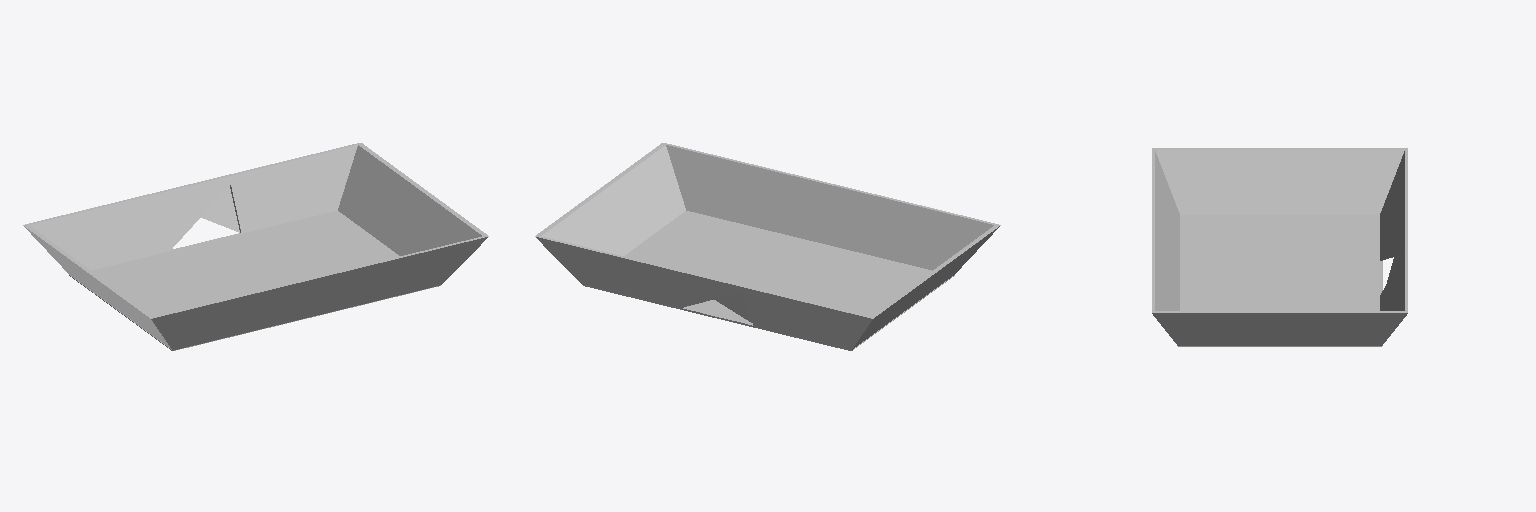
The model's file is Room6.obj.
3 renders of one model, left to right at view 1: azimuth 30°, elevation 25°; view 2: azimuth 150°, elevation 25°; view 3: azimuth 270°, elevation 25°, orthographic.
Visible parts, largest first — view 1: Room6, Piso1; view 2: Room6, Piso1; view 3: Room6, Piso1.
Boxes of the visible parts, x1,y1,x2,y2 form: Room6: [23, 143, 488, 350]; Piso1: [69, 211, 399, 349]; Room6: [535, 143, 1000, 350]; Piso1: [582, 211, 954, 350]; Room6: [1152, 148, 1407, 346]; Piso1: [1180, 215, 1381, 310].
Size of the model in its own units: 35 by 5 by 23.